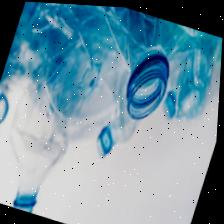plastic: (0, 0, 109, 212), (91, 17, 180, 166), (162, 28, 223, 138), (0, 0, 47, 132)
